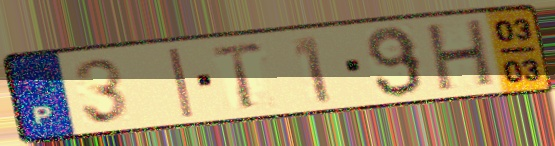1: (291, 32, 335, 106)
3: (71, 57, 132, 124)
9: (363, 24, 425, 100)
H: (425, 16, 497, 95)
I: (165, 46, 197, 121)
T: (209, 39, 267, 113)
